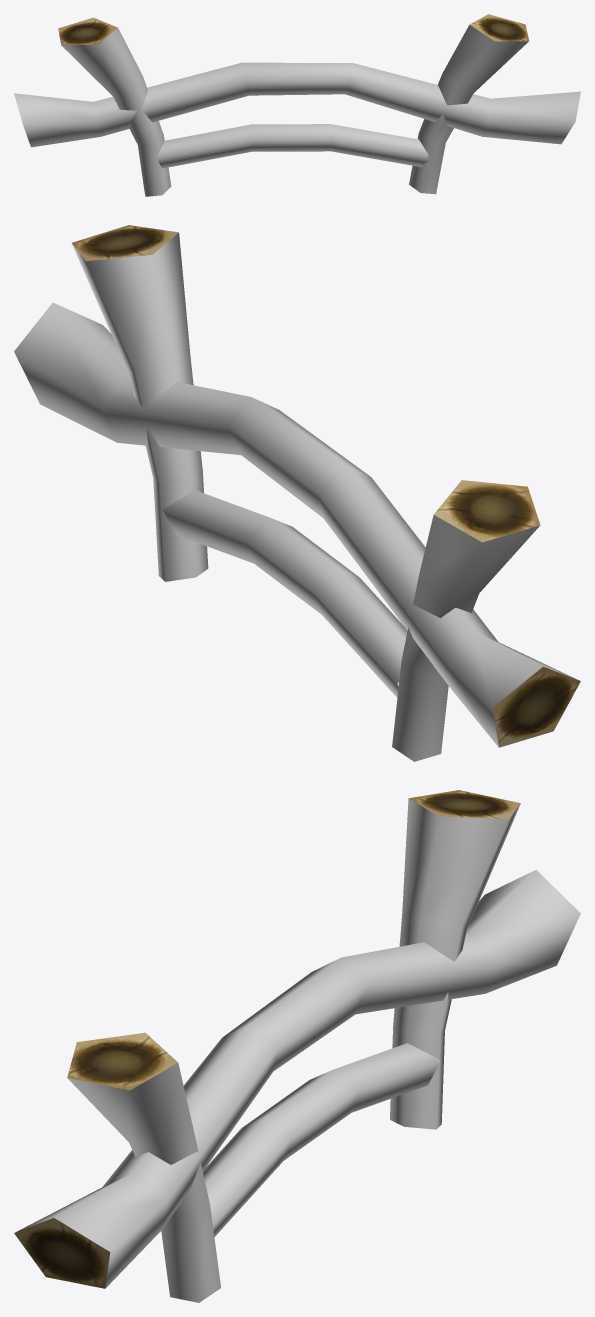
File: environment_common_qingzhulanshan_001_b.FBX
3 views of the same model, one above another, from view 1: azimuth 30°, elevation 25°; view 2: azimuth 150°, elevation 25°; view 3: azimuth 270°, elevation 25° (orthographic). The views are drawn at different scales.
Parts seen in each view (by area): view 1: environment_common_qingzhulanshan_001_b, environment_common_qingzhulanshan_001_a; view 2: environment_common_qingzhulanshan_001_b, environment_common_qingzhulanshan_001_a; view 3: environment_common_qingzhulanshan_001_b, environment_common_qingzhulanshan_001_a.
Part boxes in pixels (x1,y1,x2,y2): environment_common_qingzhulanshan_001_b: [14, 24, 580, 196]; environment_common_qingzhulanshan_001_a: [58, 14, 529, 45]; environment_common_qingzhulanshan_001_b: [14, 233, 578, 761]; environment_common_qingzhulanshan_001_a: [72, 225, 580, 747]; environment_common_qingzhulanshan_001_b: [16, 798, 580, 1302]; environment_common_qingzhulanshan_001_a: [14, 790, 520, 1288].
Bounding box in the file's own units: 381 × 142 × 252.
